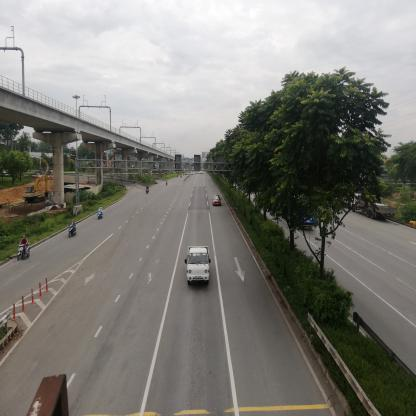car: (213, 196, 221, 205)
motorbike: (16, 240, 31, 262), (68, 221, 79, 239), (98, 207, 105, 221), (146, 187, 150, 193)
truck: (186, 246, 212, 286)
